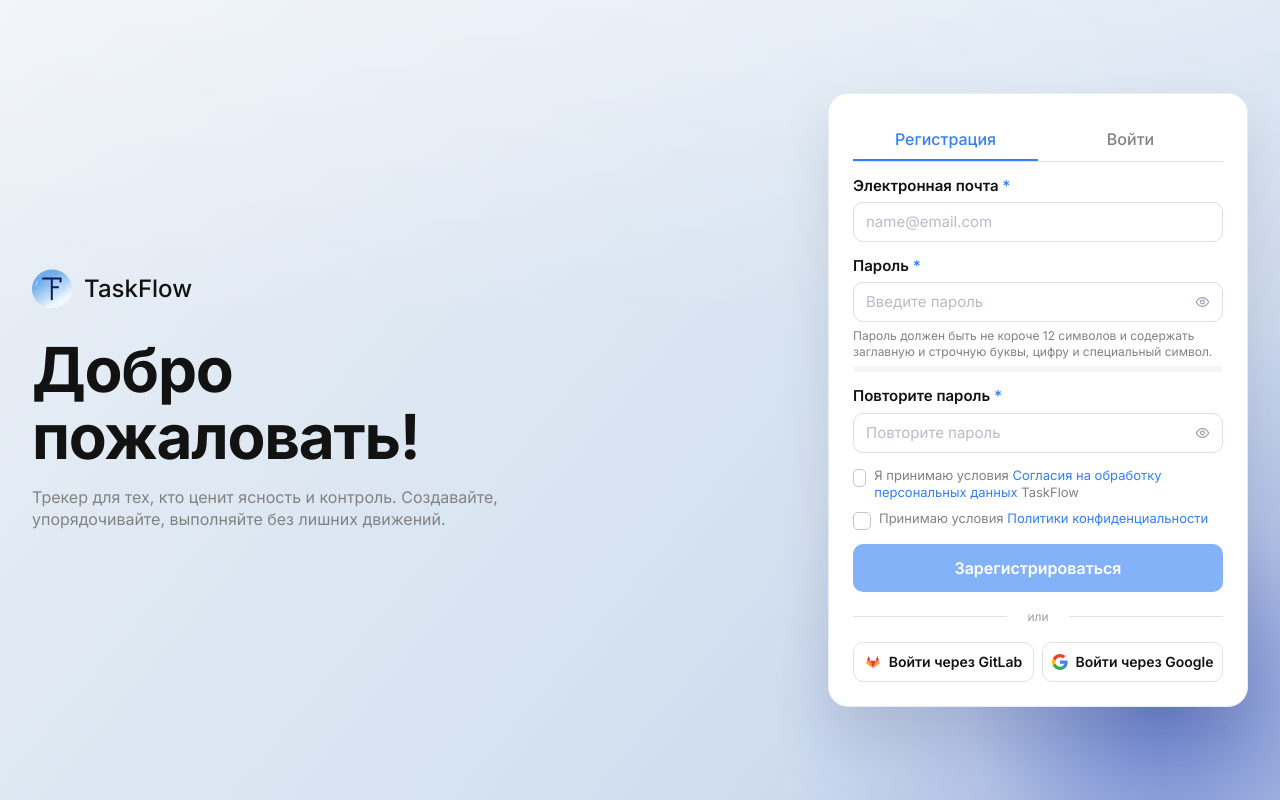
it: LoginPage register validation errors › shows backend error text for already registered email
In the field with placeholder "name@email.com": (1038, 222) top-left (866, 211), bottom-right (1210, 232), type "existing_user@mail.ru"
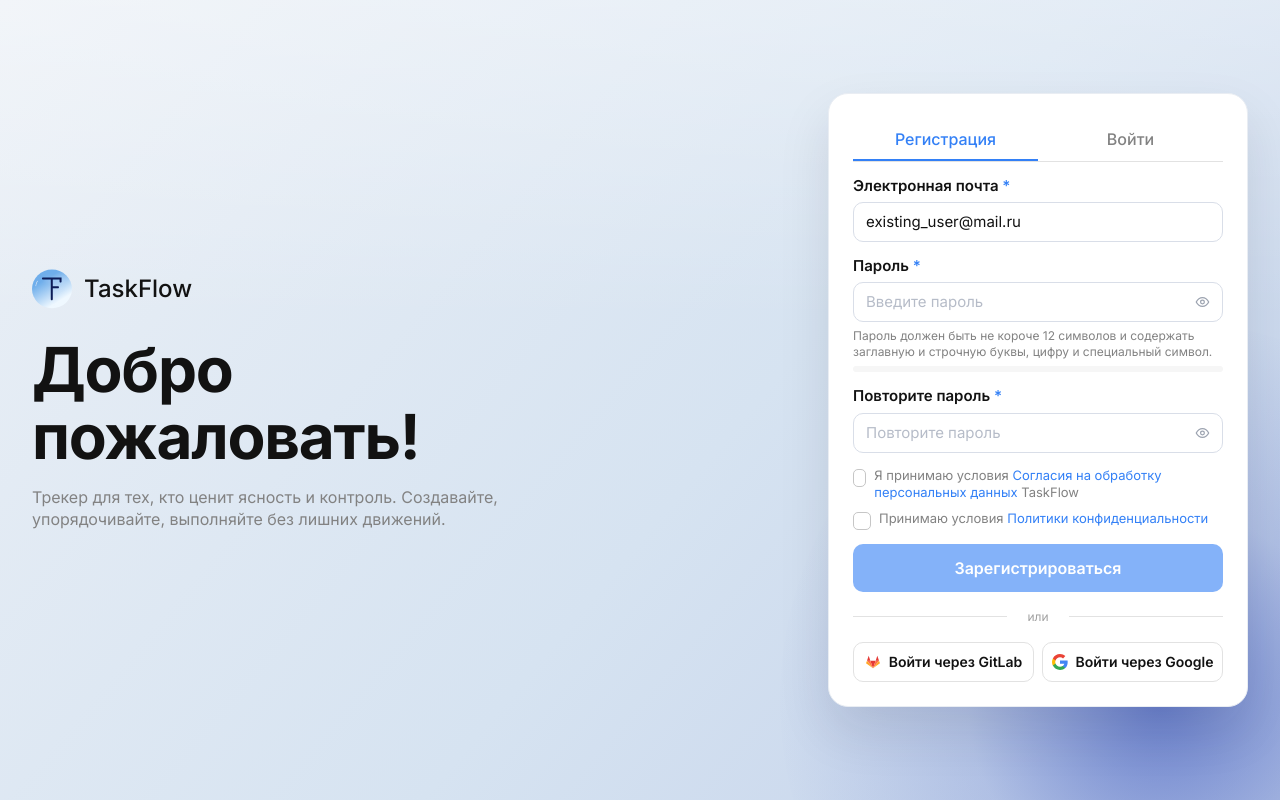
In the password field with placeholder "Введите пароль": (1027, 302) top-left (866, 291), bottom-right (1187, 313), type "ValidPassword1!"
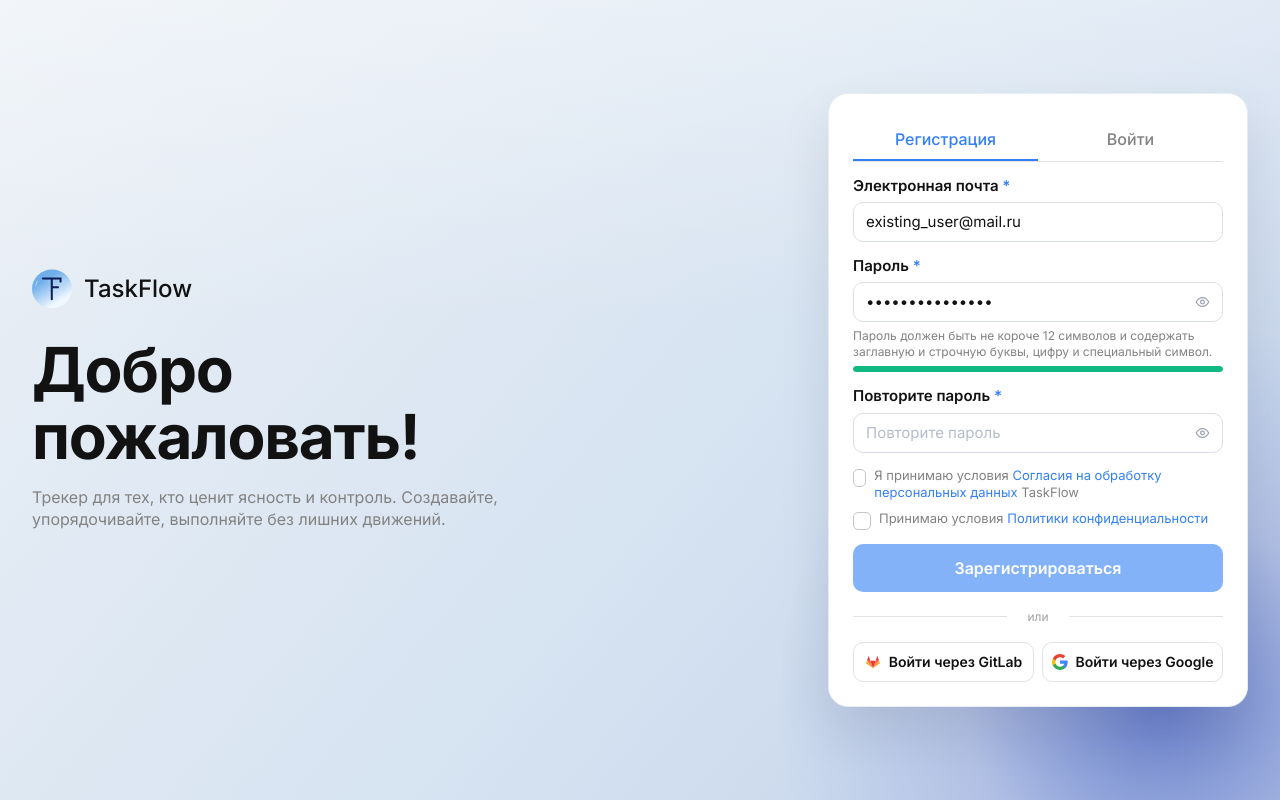
In the password field with placeholder "Повторите пароль": (1027, 433) top-left (866, 422), bottom-right (1187, 443), type "ValidPassword1!"
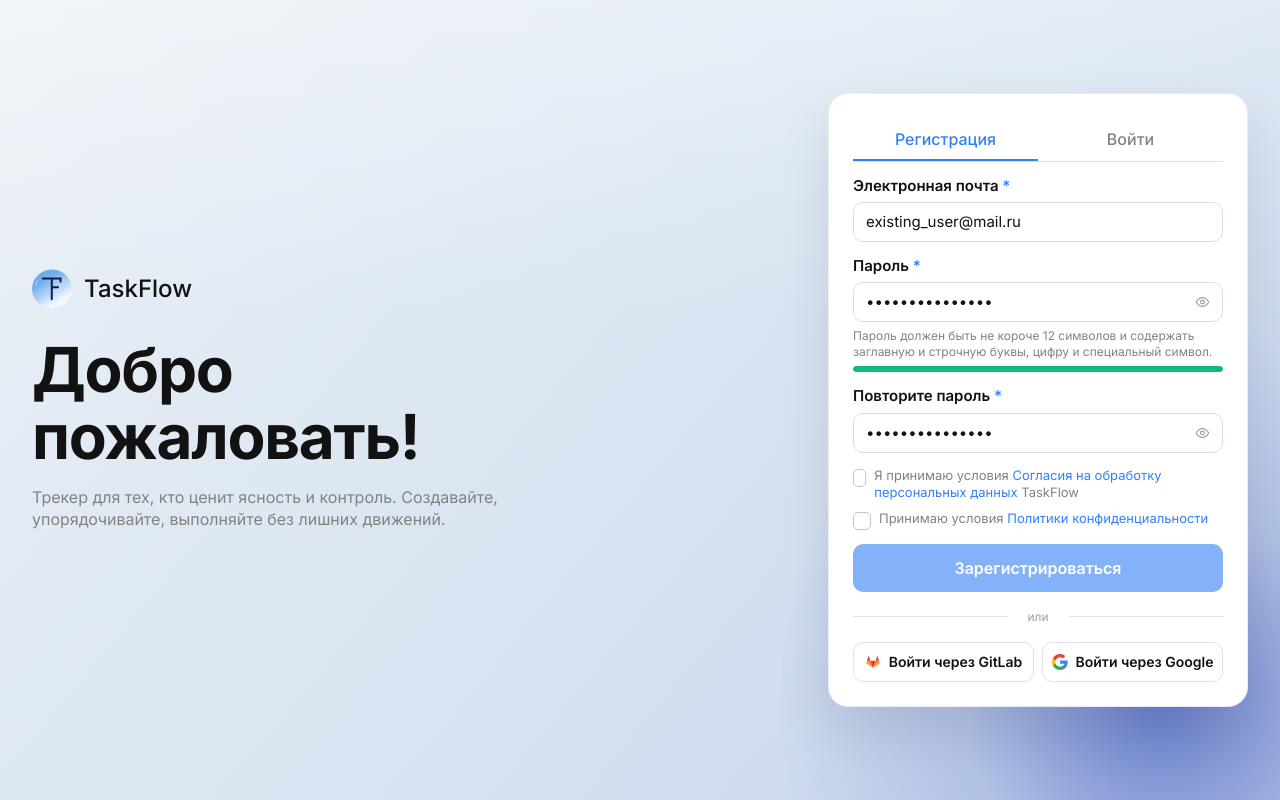
Click the checkbox that starts with "Я принимаю условия": (1007, 483) top-left (853, 467), bottom-right (1162, 500)
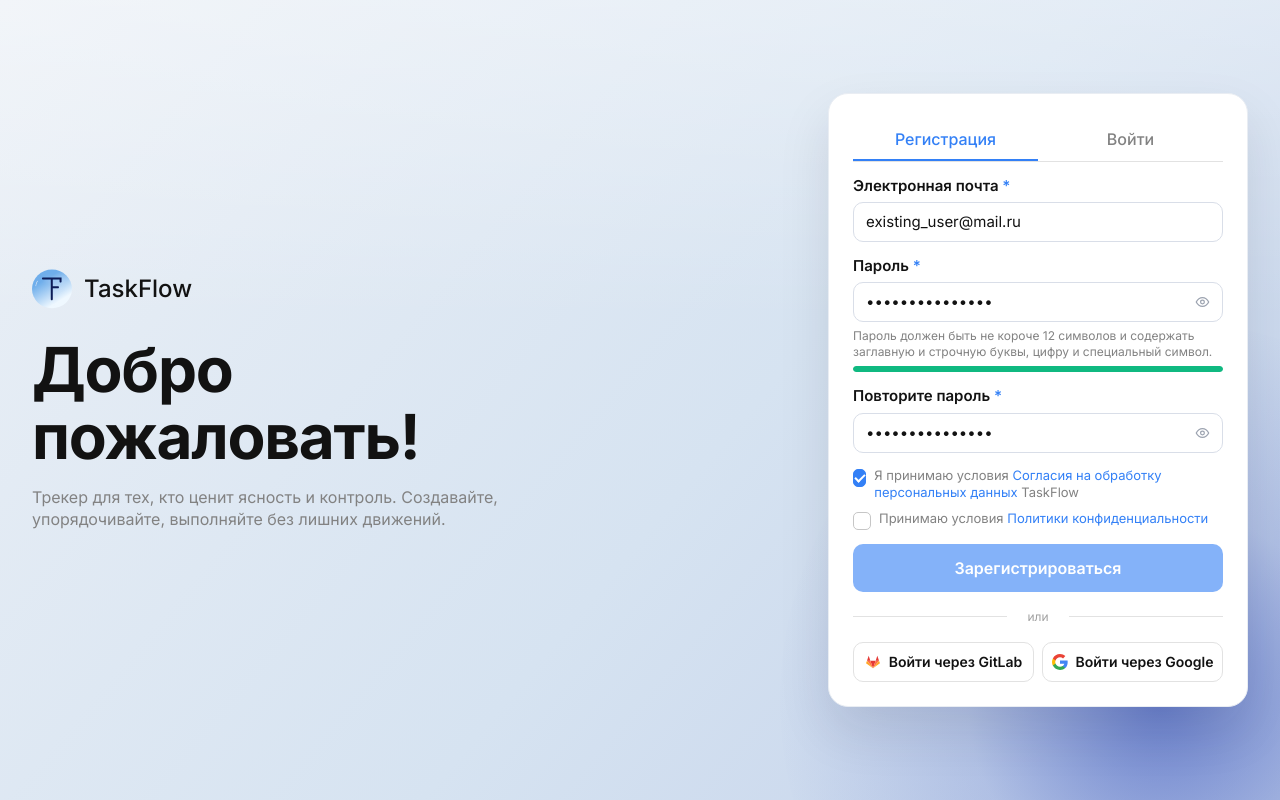
Click the checkbox labelled "Принимаю условия Политики конфиденциальности": (1038, 520) top-left (853, 510), bottom-right (1223, 530)
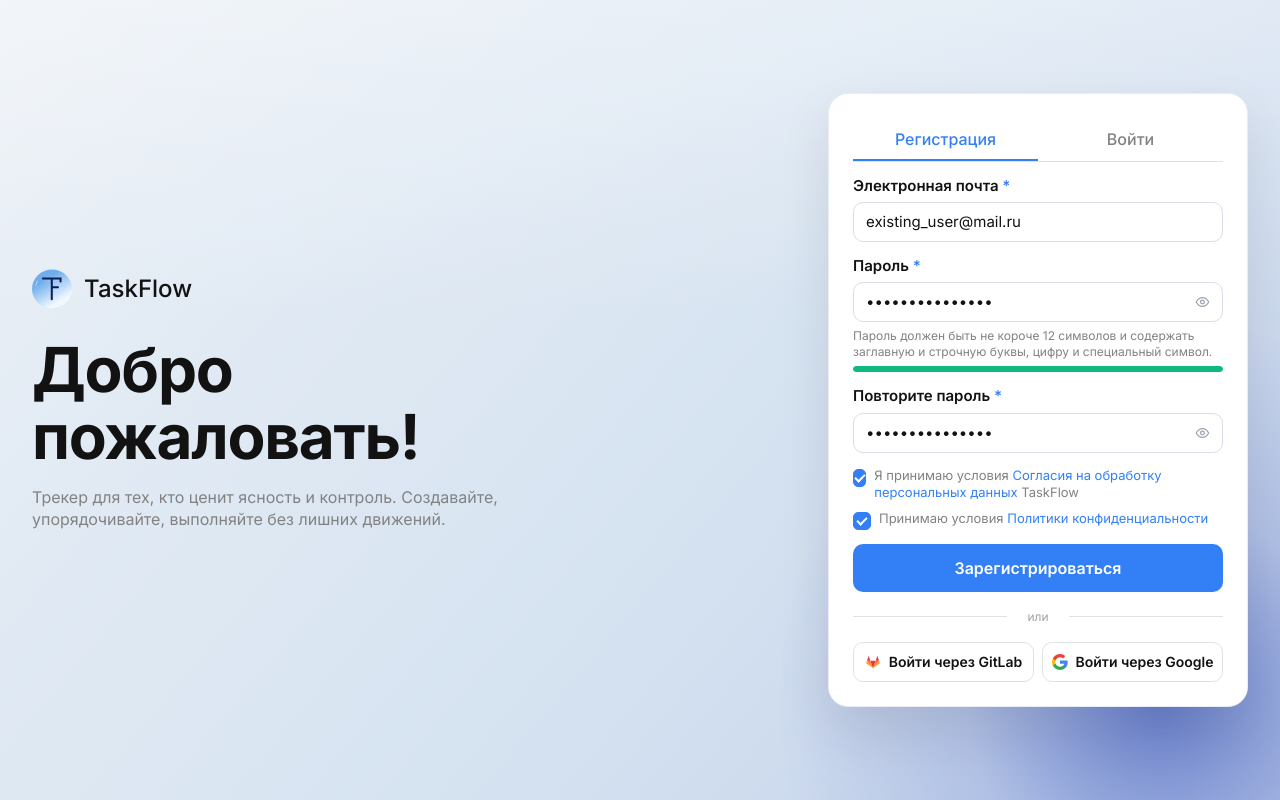
Click the button "Зарегистрироваться": (1038, 568) top-left (853, 544), bottom-right (1223, 592)
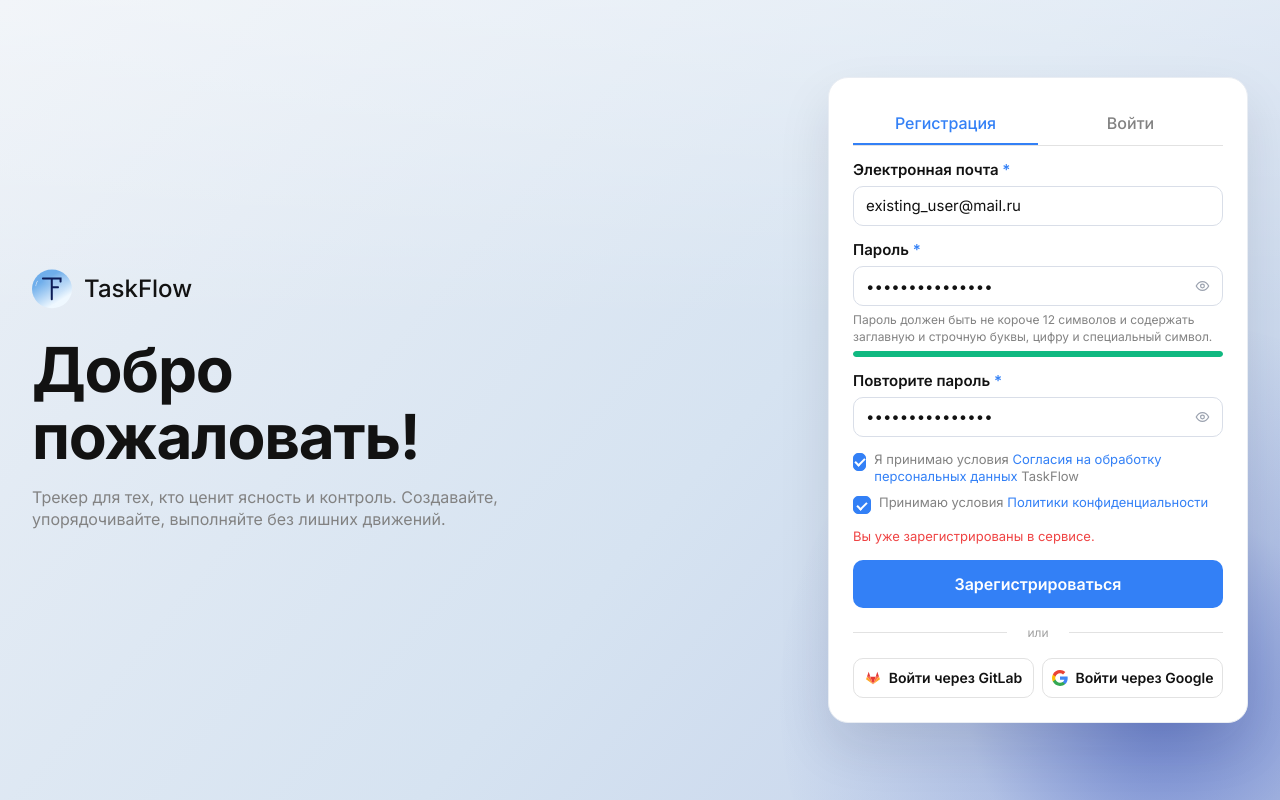
Now the text "Вы уже зарегистрированы в сервисе." is shown, box top-left (853, 528), bottom-right (1095, 544)
